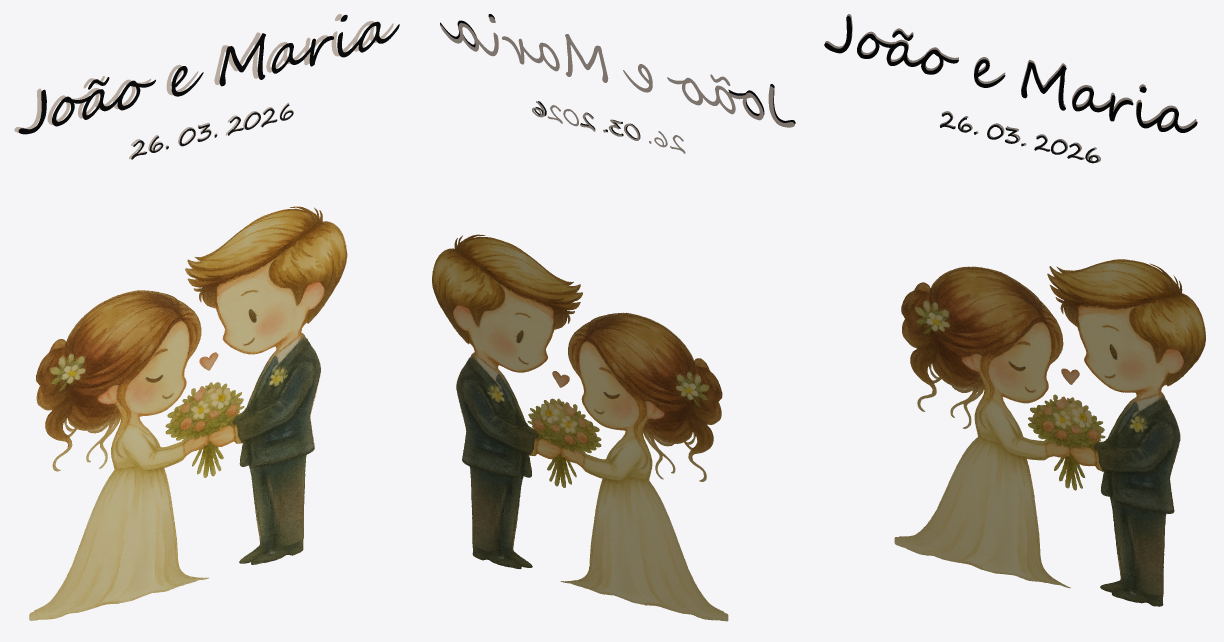
File: noivos.glb
3 views of the same model, side by side, from view 1: azimuth 30°, elevation 25°; view 2: azimuth 150°, elevation 25°; view 3: azimuth 330°, elevation 25° (orthographic). The views are drawn at different scales.
Parts seen in each view (by area): view 1: Plane, Text.002, Text; view 2: Plane, Text; view 3: Plane, Text.002, Text.
Boxes of the visible parts, <box> form: Plane: <box>29,206,347,620</box>; Text.002: <box>18,15,399,134</box>; Text: <box>14,14,393,132</box>; Plane: <box>432,234,728,621</box>; Text: <box>441,16,794,127</box>; Plane: <box>894,259,1205,606</box>; Text.002: <box>824,16,1197,132</box>; Text: <box>825,14,1196,128</box>.
Size of what is drawn, in the model's own units: 2.16 by 3.06 by 0.2985.
Materials: 4 (1 with a texture image).
